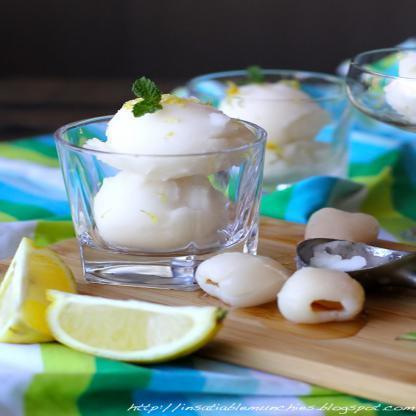lemon: (46, 288, 228, 363), (0, 236, 79, 344)
